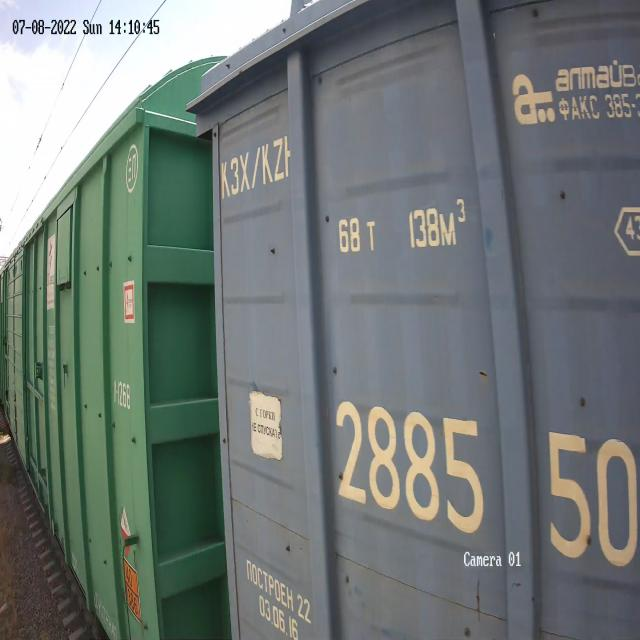boxcar: (183, 0, 640, 640), (0, 38, 215, 640)
